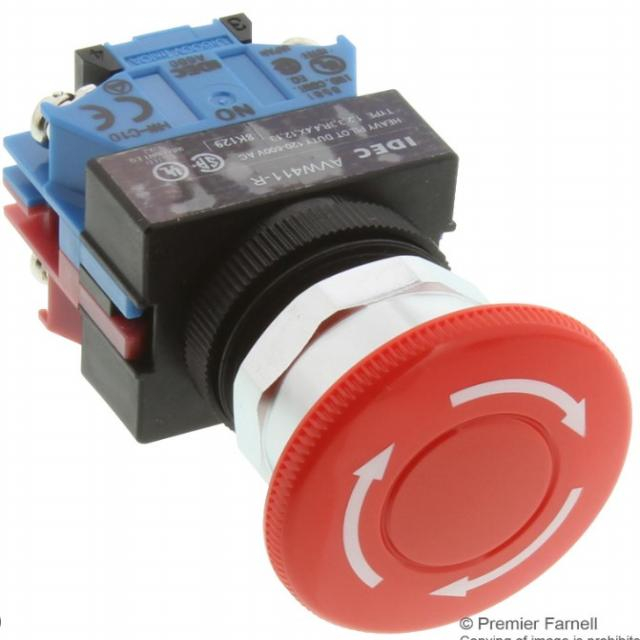safety switch: (183, 197, 634, 634)
